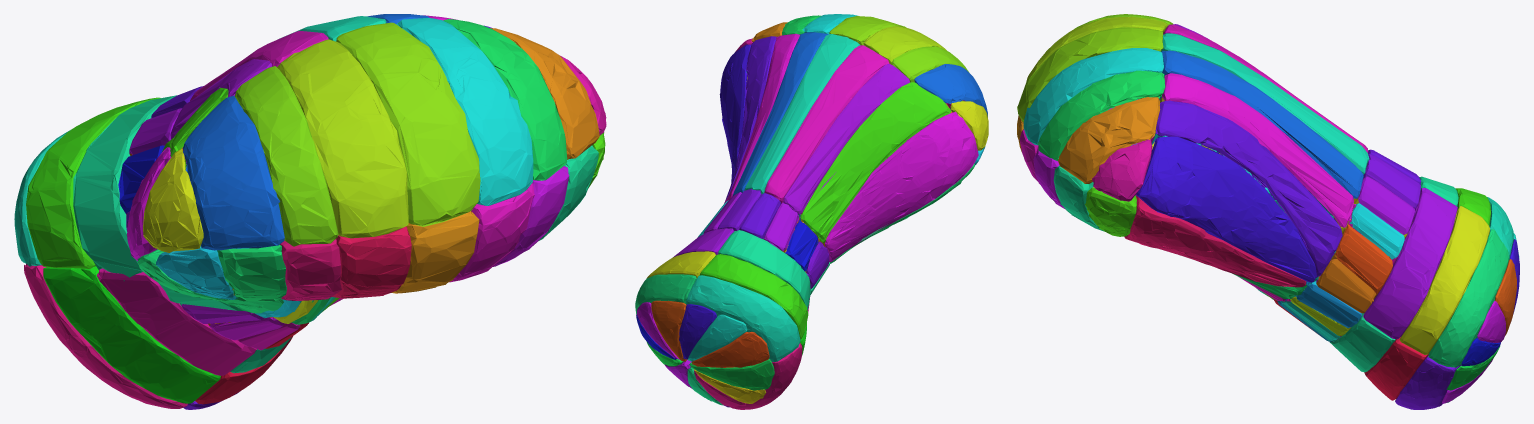
The model's file is uterus-female-upenn.glb.
3 views of the same model, side by side, from view 1: azimuth 30°, elevation 25°; view 2: azimuth 150°, elevation 25°; view 3: azimuth 270°, elevation 25° (orthographic). The views are drawn at different scales.
Parts seen in each view (by area): view 1: world; view 2: world; view 3: world.
Boxes of the visible parts, x1,y1,x2,y2 form: world: (14,14,606,409); world: (635,14,988,409); world: (1017,14,1519,409).
Bounding box in the file's own units: 0.0421 × 0.0468 × 0.0582.
